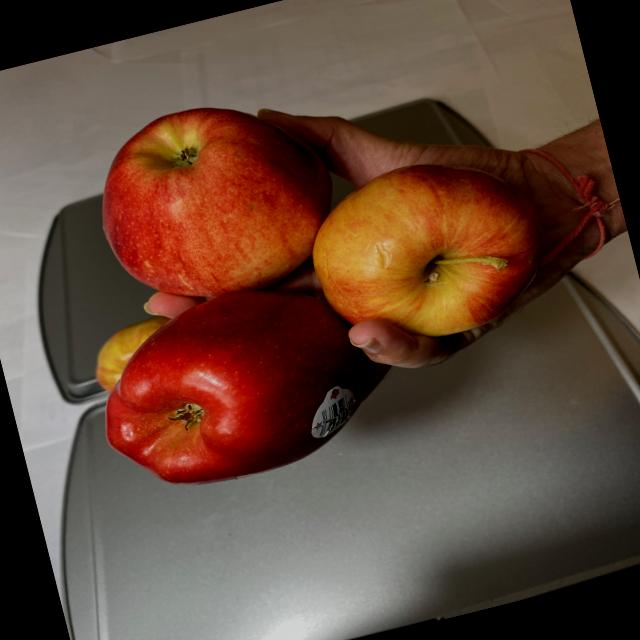apple: (27, 29, 591, 506)
